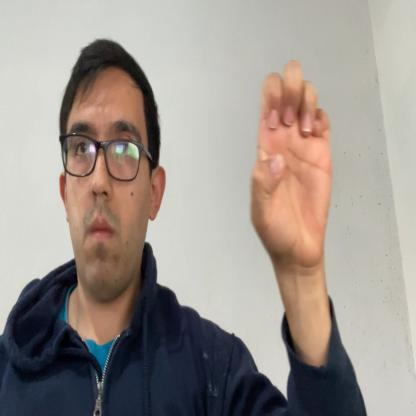E: (250, 57, 332, 270)
